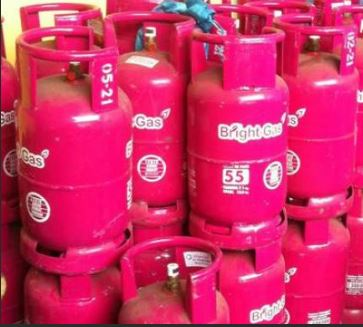bright_gas: (17, 26, 135, 271), (189, 24, 287, 245), (104, 12, 199, 220), (274, 13, 360, 217), (120, 234, 230, 327), (197, 225, 287, 327), (284, 221, 363, 327), (21, 259, 119, 327), (1, 16, 22, 222)
